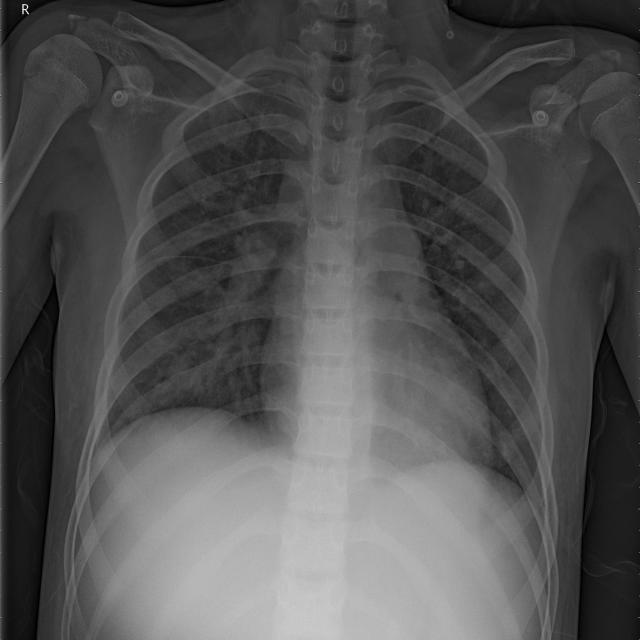low-pneumonia: (185, 186, 282, 399), (228, 59, 310, 142)
